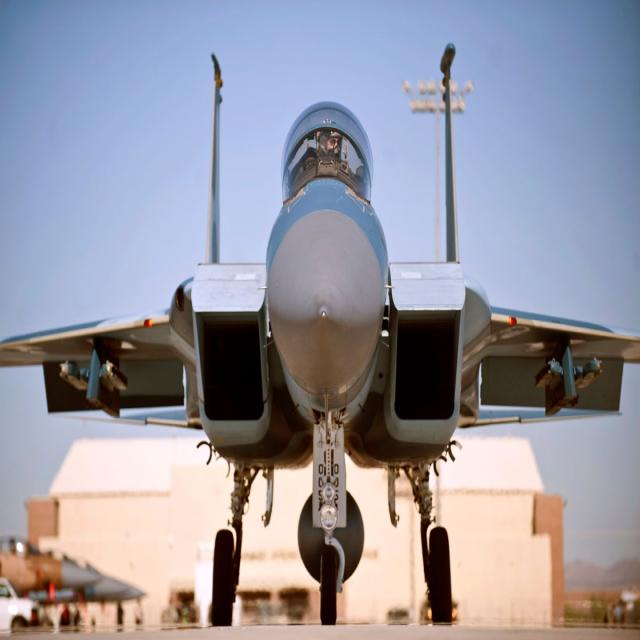F15: (3, 18, 640, 635)
